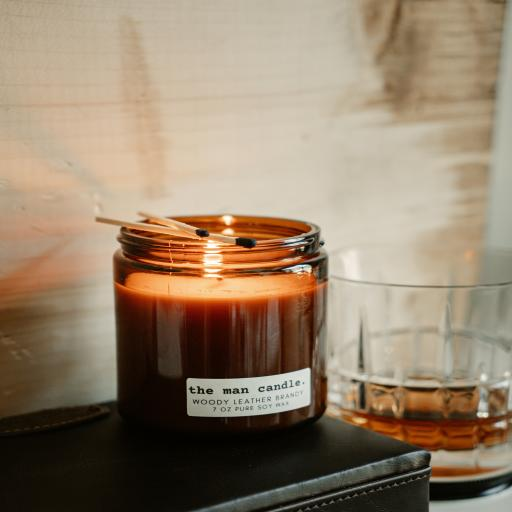candlelight: (106, 173, 268, 378)
